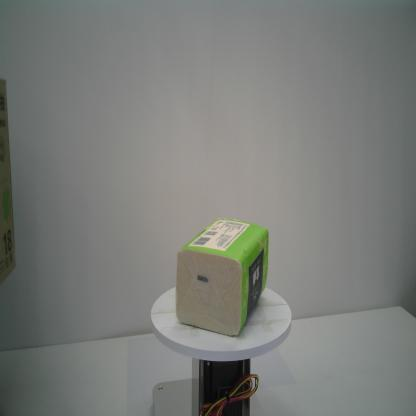Tissue: (171, 216, 270, 340)
